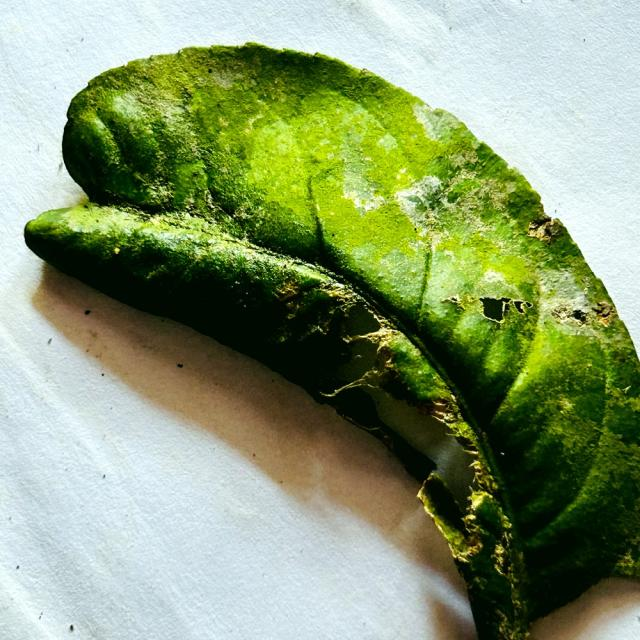Deficiency Leaf: (361, 385, 477, 511), (468, 291, 607, 328), (526, 214, 566, 245)
Lemon: (24, 44, 639, 639)
